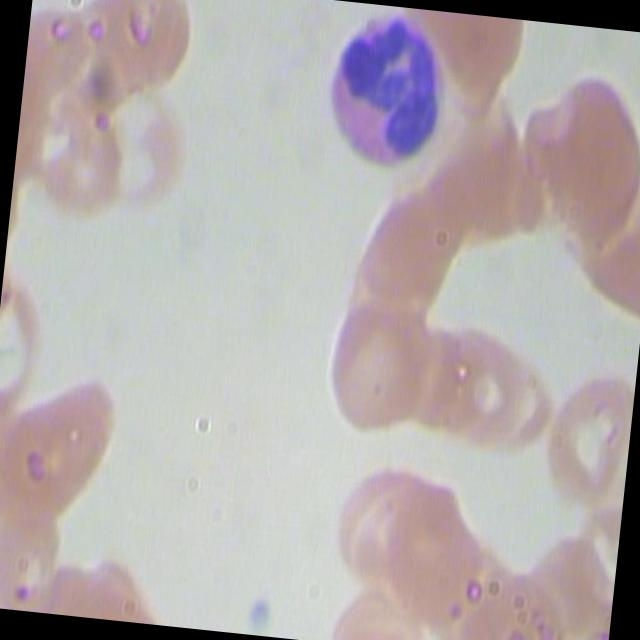Platelets: (235, 581, 283, 636)
RBC: (509, 63, 640, 258), (0, 357, 127, 540), (74, 74, 200, 218), (316, 297, 442, 440), (321, 448, 424, 598), (534, 359, 636, 507), (440, 318, 536, 454), (354, 198, 458, 306)
WBC: (318, 4, 462, 187)
